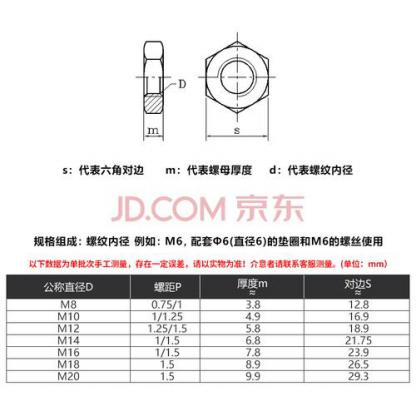FOD: (207, 41, 270, 113)
